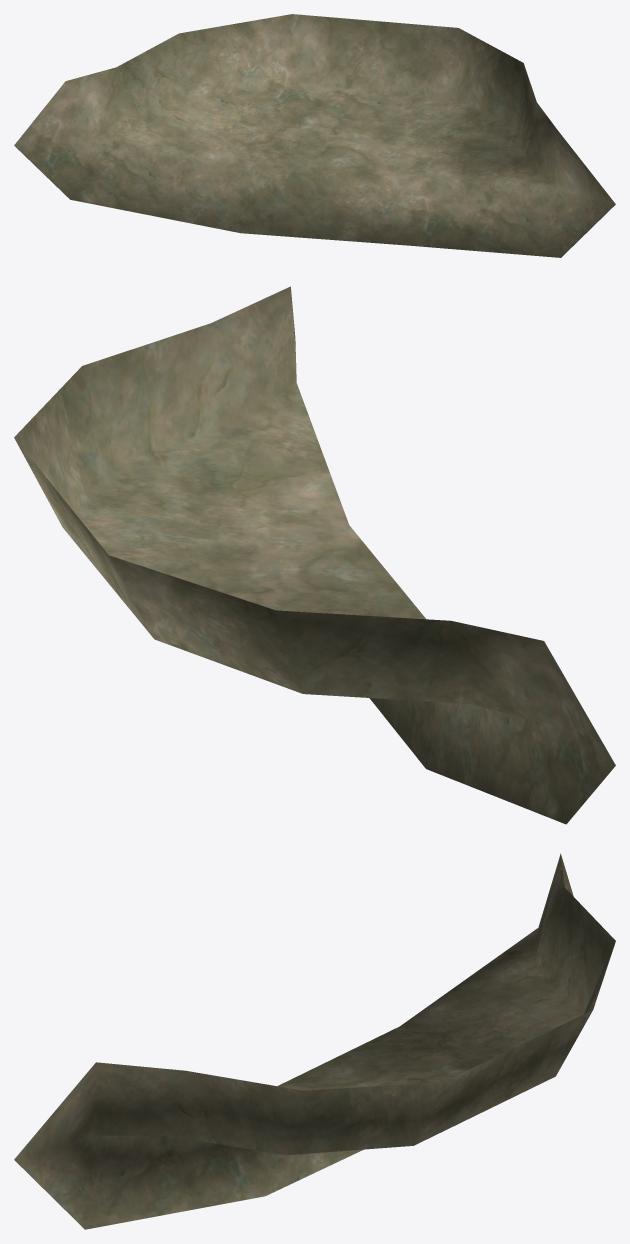
Rendered from EKH_GROTTO_PS_GR_LINE38.fbx.
3 renders of one model, top to bottom at view 1: azimuth 30°, elevation 25°; view 2: azimuth 150°, elevation 25°; view 3: azimuth 270°, elevation 25°, orthographic. The views are drawn at different scales.
Visible parts, largest first — view 1: EKH_GROTTO_PS_GR_LINE38; view 2: EKH_GROTTO_PS_GR_LINE38; view 3: EKH_GROTTO_PS_GR_LINE38.
Part boxes in pixels (bbox=[...]): EKH_GROTTO_PS_GR_LINE38: bbox=[14, 14, 615, 257]; EKH_GROTTO_PS_GR_LINE38: bbox=[14, 286, 615, 824]; EKH_GROTTO_PS_GR_LINE38: bbox=[14, 853, 615, 1229].
Size of the model in its own units: 35108 by 11705 by 33335.
Materials: 1 (1 with a texture image).
